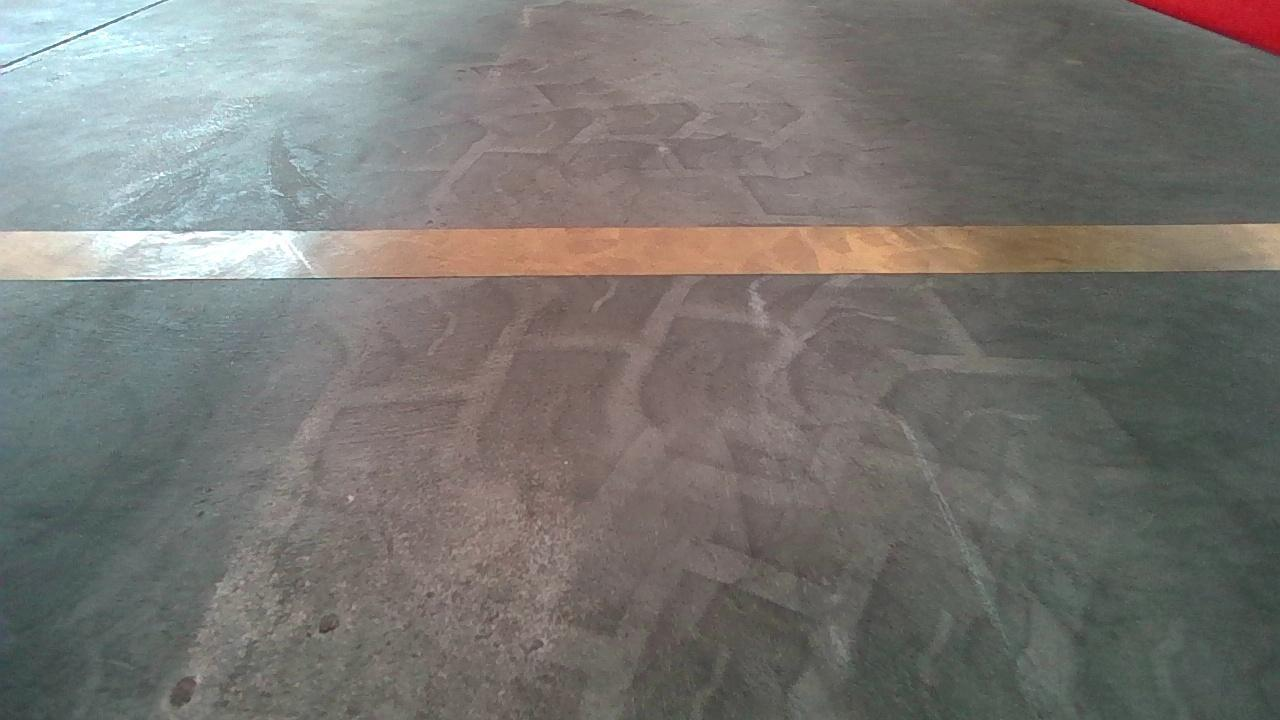yellow_line: (19, 215, 1280, 279)
